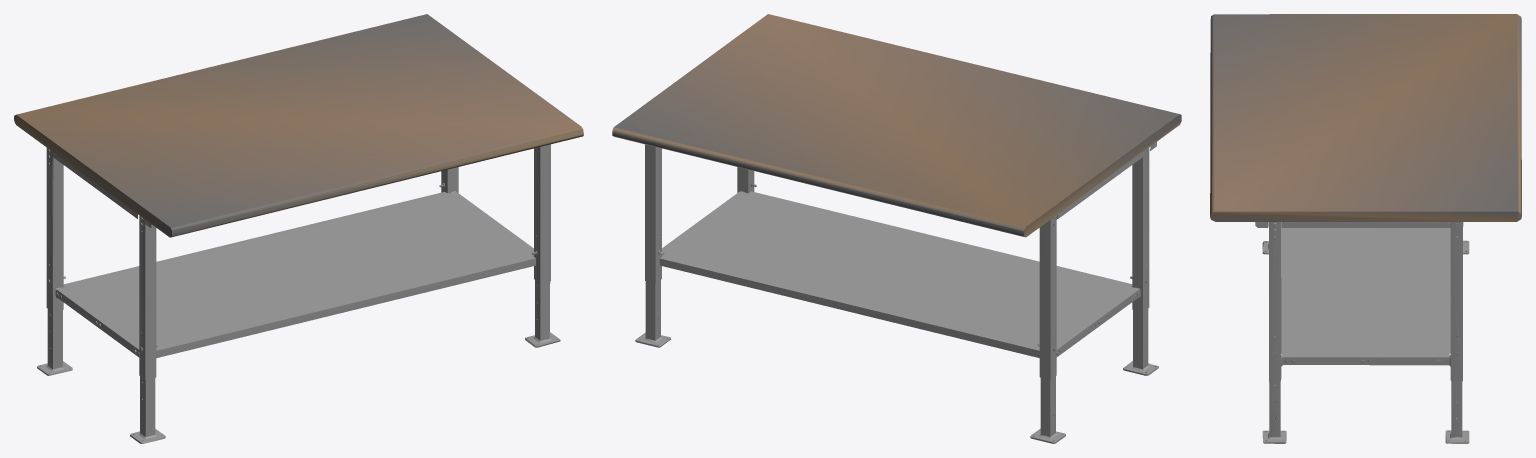
Rendered from pack_table.glb.
3 renders of one model, left to right at view 1: azimuth 30°, elevation 25°; view 2: azimuth 150°, elevation 25°; view 3: azimuth 270°, elevation 25°, orthographic.
Visible parts, largest first — view 1: body; view 2: body; view 3: body.
Part boxes in pixels (bbox=[...]): body: bbox=[14, 14, 583, 443]; body: bbox=[612, 14, 1181, 443]; body: bbox=[1210, 14, 1521, 443].
Size of the model in its own units: 1.87 by 0.9933 by 1.22.
